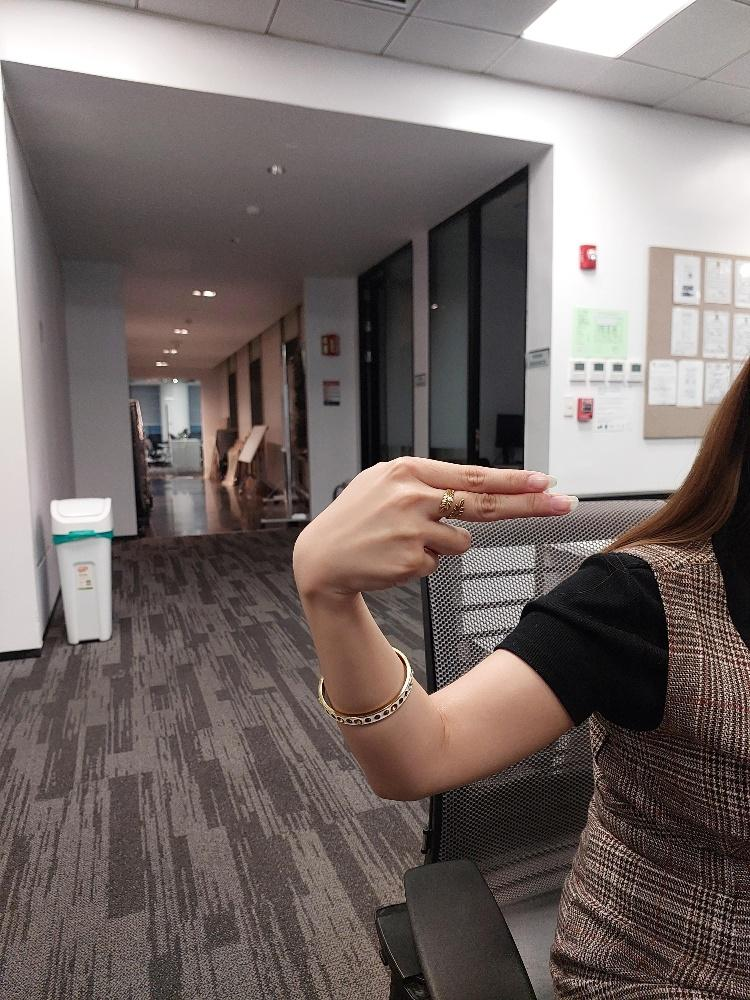h: (289, 450, 581, 601)
